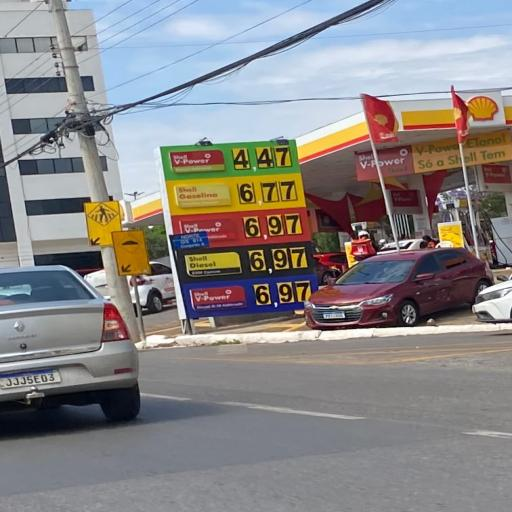ETANOL: (168, 148, 228, 174)
GASOLINA AD: (181, 220, 236, 242)
GASOLINA C: (176, 179, 231, 210)
S10: (189, 284, 249, 309)
S500: (184, 253, 244, 276)
placa: (159, 140, 320, 311)
preco: (240, 210, 306, 239), (236, 176, 298, 206), (248, 244, 309, 274), (229, 145, 294, 172), (250, 279, 311, 306)
